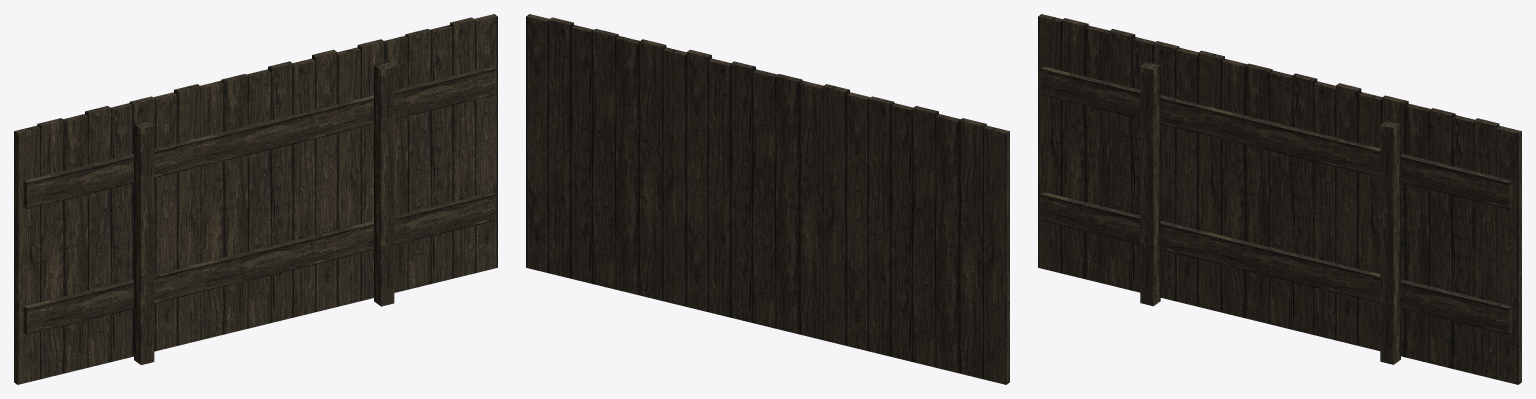
File: fence_a_1.glb
The picture shows the model from 3 angles, left to right: view 1: azimuth 30°, elevation 25°; view 2: azimuth 150°, elevation 25°; view 3: azimuth 330°, elevation 25°; orthographic projection.
Parts seen in each view (by area): view 1: fence_a_1; view 2: fence_a_1; view 3: fence_a_1.
Boxes of the visible parts, x1=… form: fence_a_1: x1=14, y1=14, x2=497, y2=384; fence_a_1: x1=526, y1=14, x2=1009, y2=384; fence_a_1: x1=1038, y1=14, x2=1521, y2=384.
Bounding box in the file's own units: 4 × 2.03 × 0.2033.
Materials: 1 (1 with a texture image).
